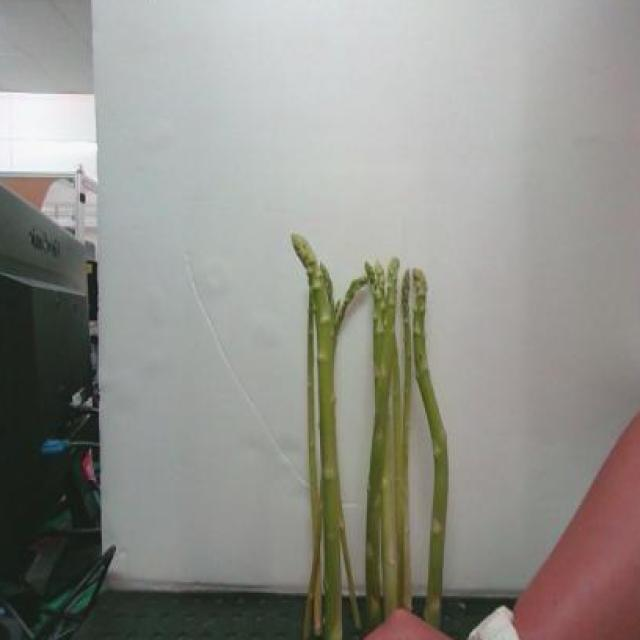aspargus: (288, 233, 448, 640)
